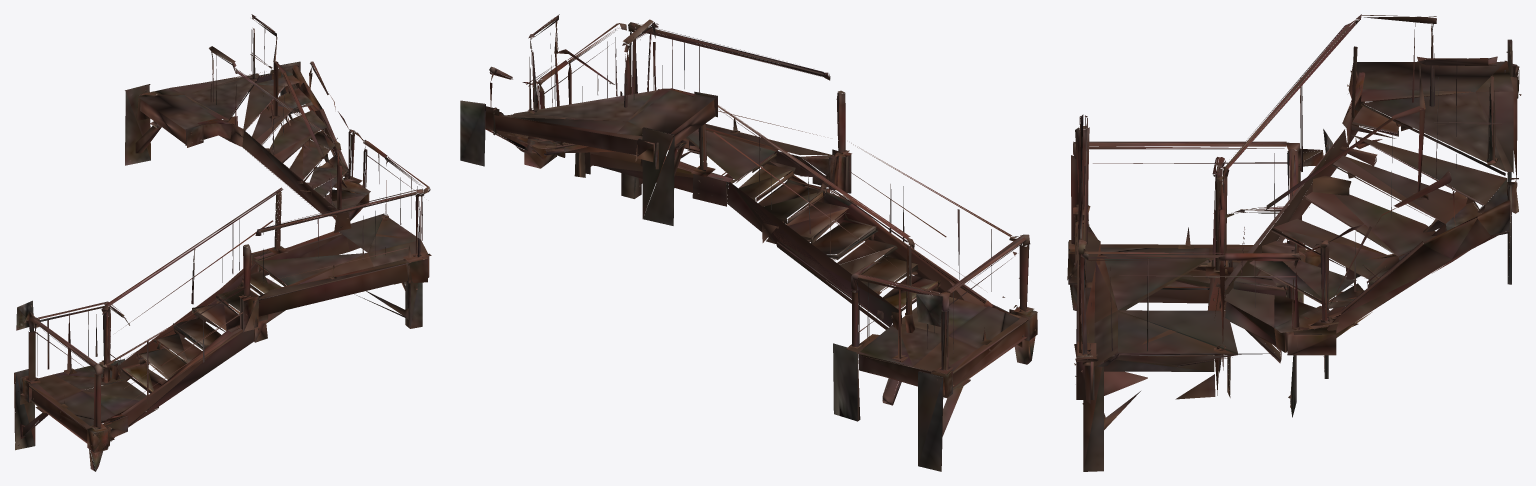
Rendered from fire-escape-far.glb.
The picture shows the model from 3 angles, left to right: view 1: azimuth 30°, elevation 25°; view 2: azimuth 150°, elevation 25°; view 3: azimuth 270°, elevation 25°; orthographic projection. The views are drawn at different scales.
Parts seen in each view (by area): view 1: fire-escape; view 2: fire-escape; view 3: fire-escape.
Boxes of the visible parts, box(x1,y1,x2,y2) form: fire-escape: box(14, 14, 431, 471); fire-escape: box(460, 14, 1037, 471); fire-escape: box(1067, 14, 1521, 471).
Bounding box in the file's own units: 5.4 × 4.91 × 3.77.
1 material, 1 textured.
